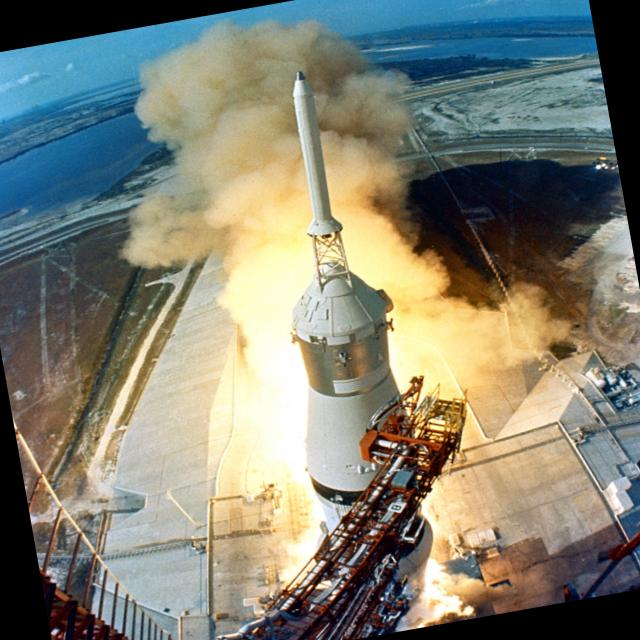rocket: (259, 52, 396, 248)
